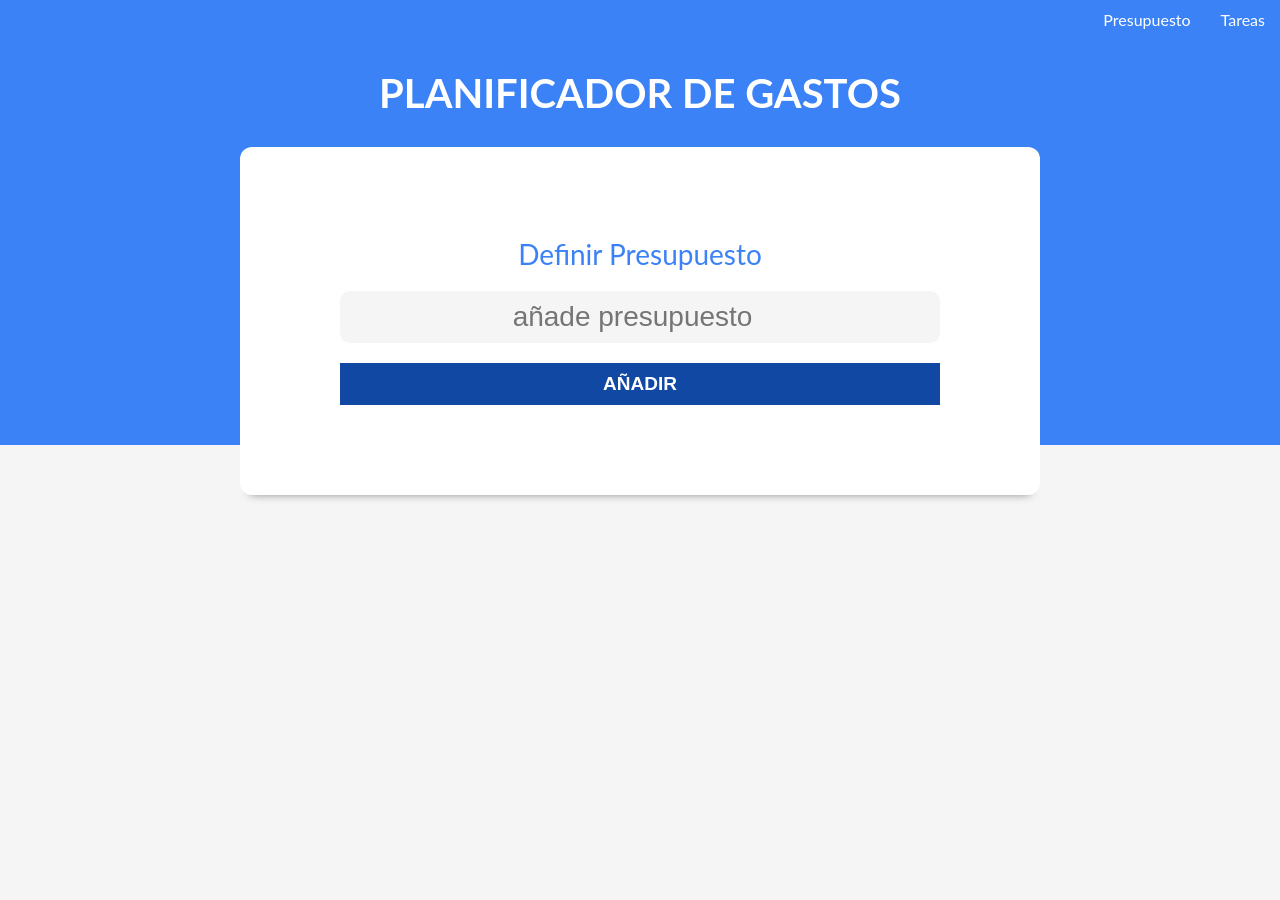
it: mostrar elementos en la pantalla datos presupuesto › que aparezca botón resetear presupuesto
Step 1. Type "500" into the number field → x=640, y=317, box [340,291,940,343]
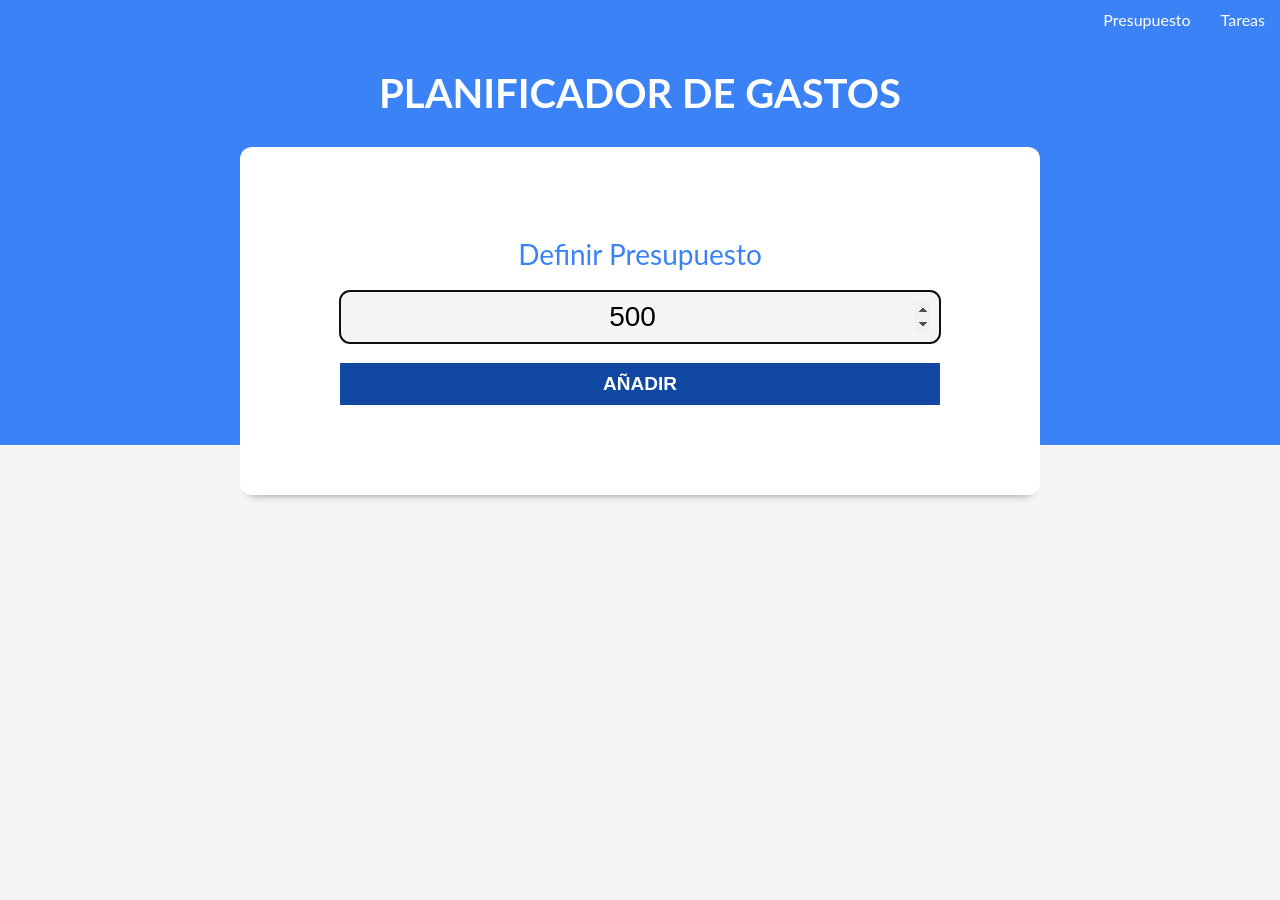
Step 2. Click the button "Añadir" → x=640, y=384, box [340,363,940,405]
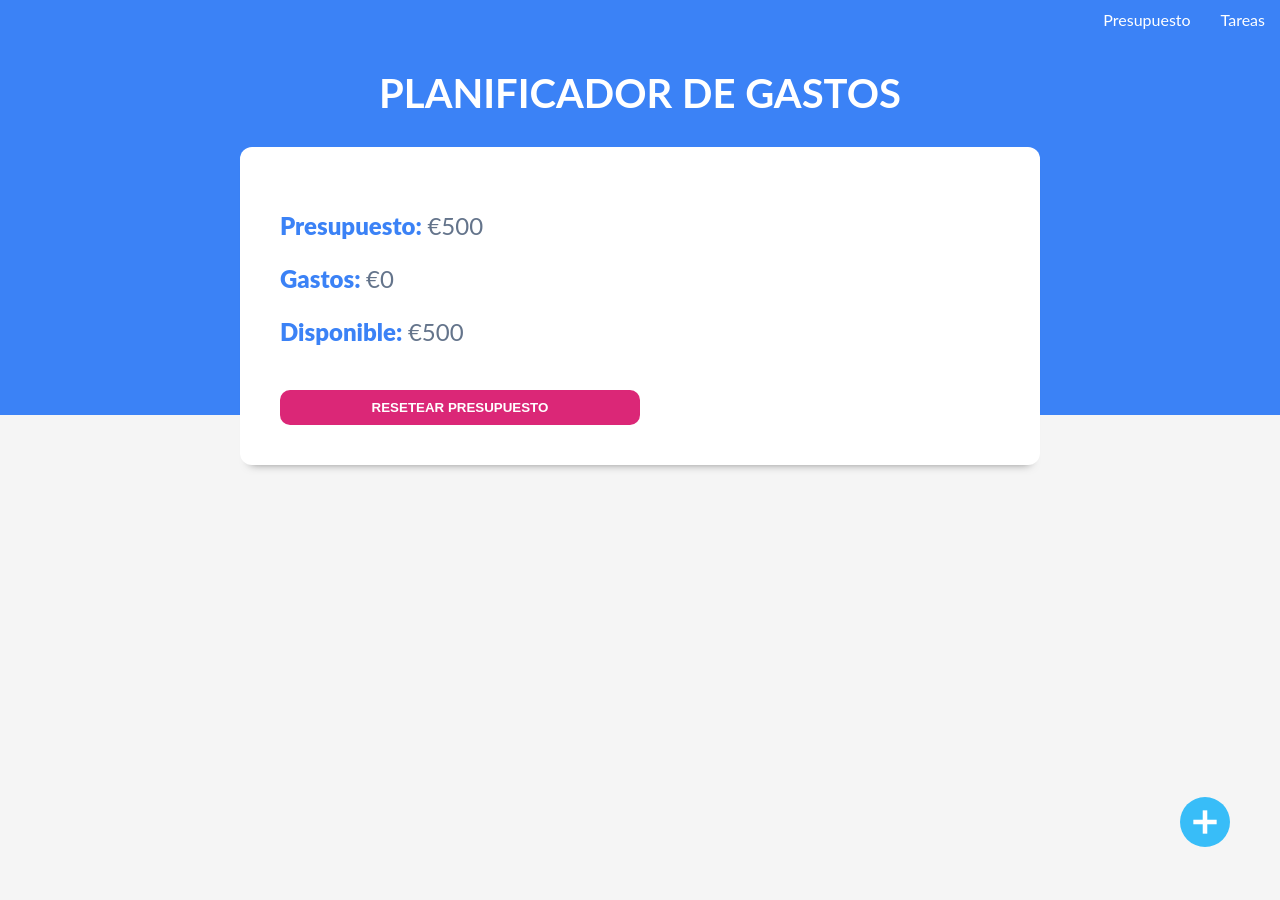
Result: the button "Resetear Presupuesto" is shown at [280,390,640,425]
